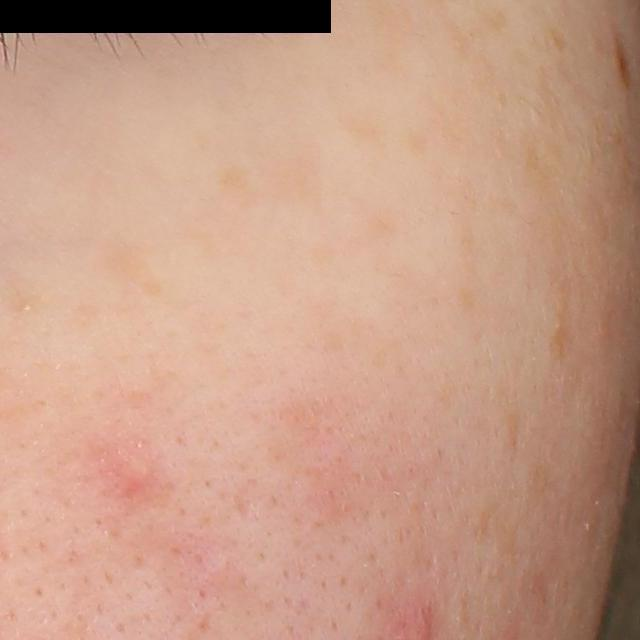melasma: (252, 139, 329, 215), (337, 101, 392, 146), (217, 160, 257, 200), (476, 5, 507, 38)
